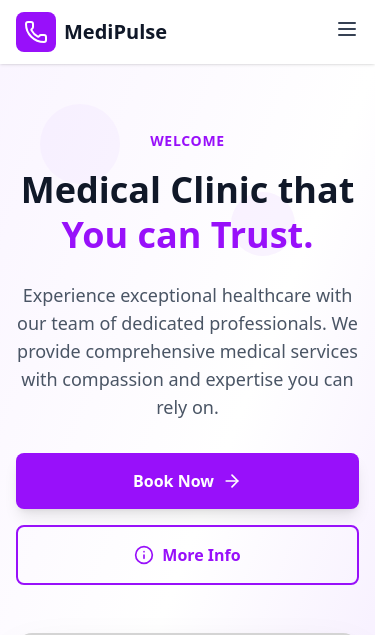
Test: Navbar Component › renders correctly for guest (desktop + mobile)
Click the button with test id "mobile-menu-button". click: (347, 29)
box: [335,17,359,41]
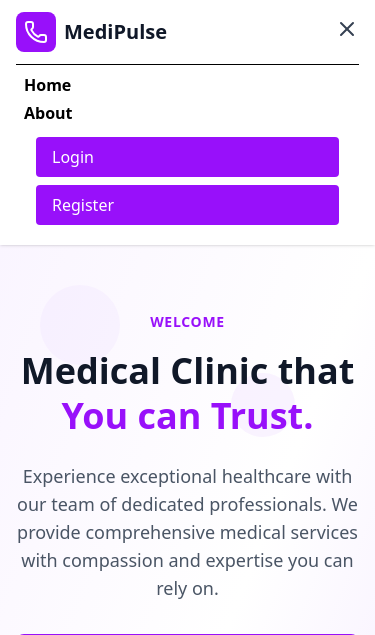
expect the link with test id "mobile-home" is shown: met, box [24,74,71,96]
expect the link with test id "mobile-about" is shown: met, box [24,102,73,124]
expect the link with test id "mobile-login" is shown: met, box [36,137,339,177]
